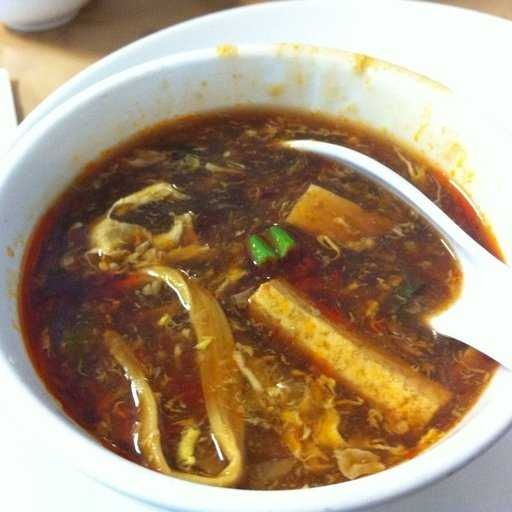soup: (1, 81, 493, 486)
